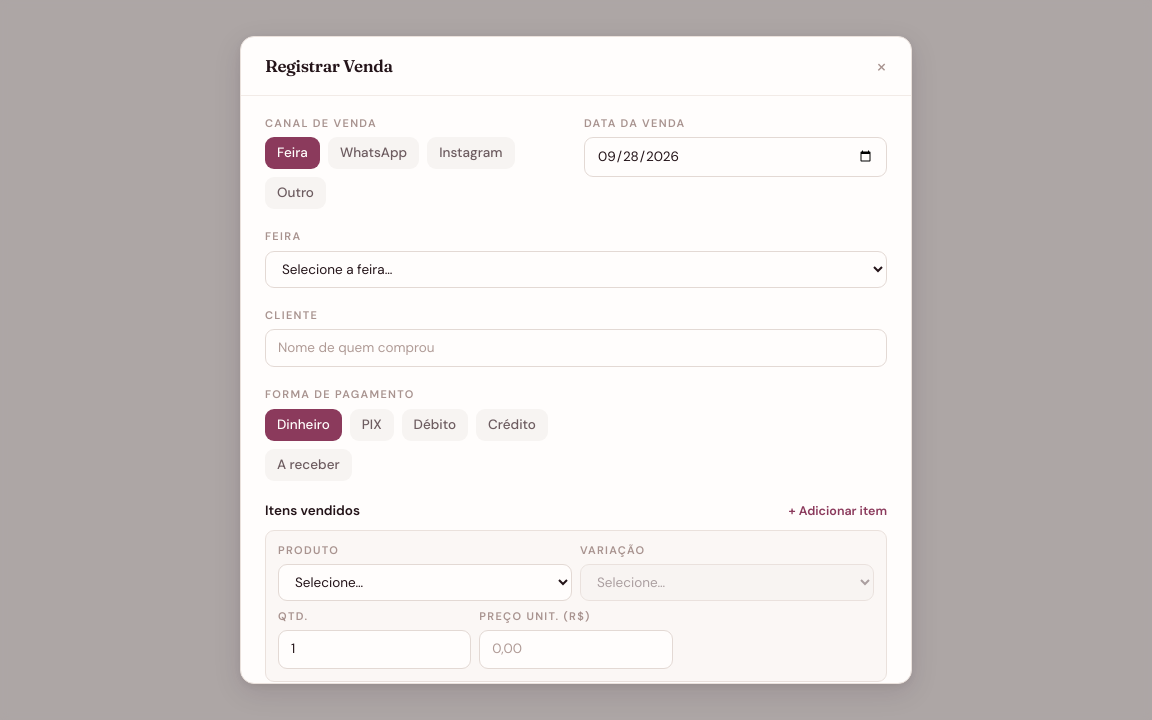
Test: SaleForm: conferências antes de salvar › should_require_the_fair_when_the_channel_is_a_fair
Select "Colar Aurora" in the dropdown labelled "Produto": (425, 582) [278, 564, 572, 601]
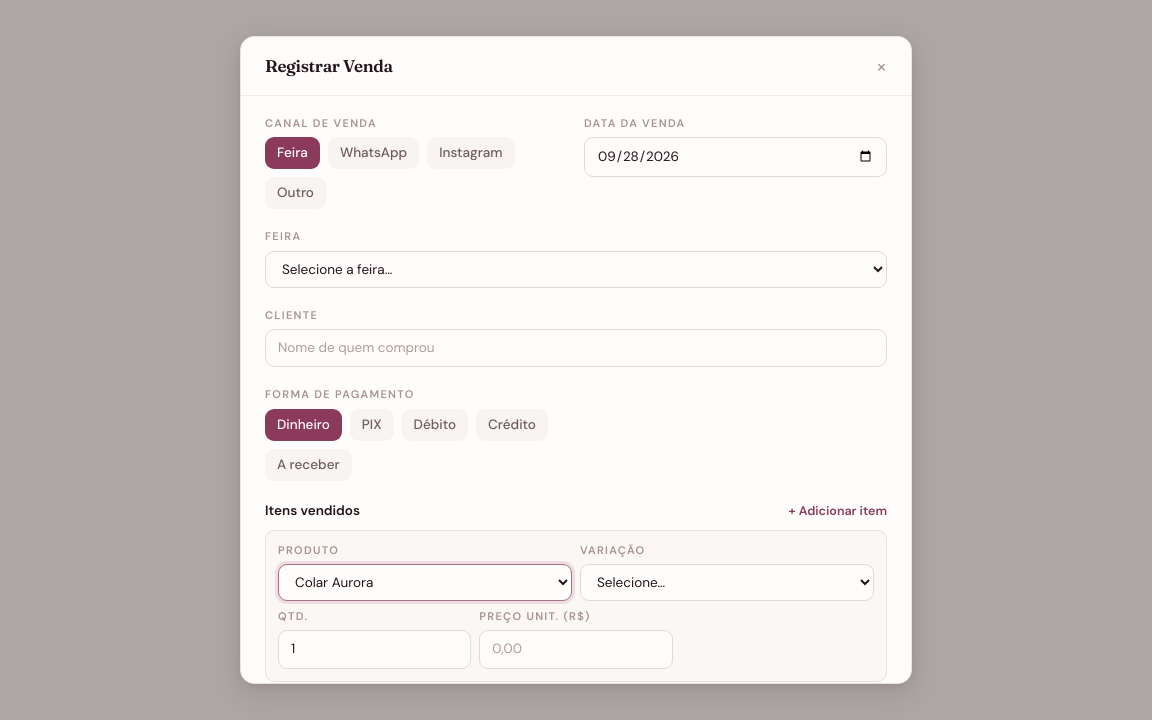
Select "Rosa (estoque: 4)" in the dropdown labelled "Variação": (727, 582) [580, 564, 874, 601]
(page scrolled)
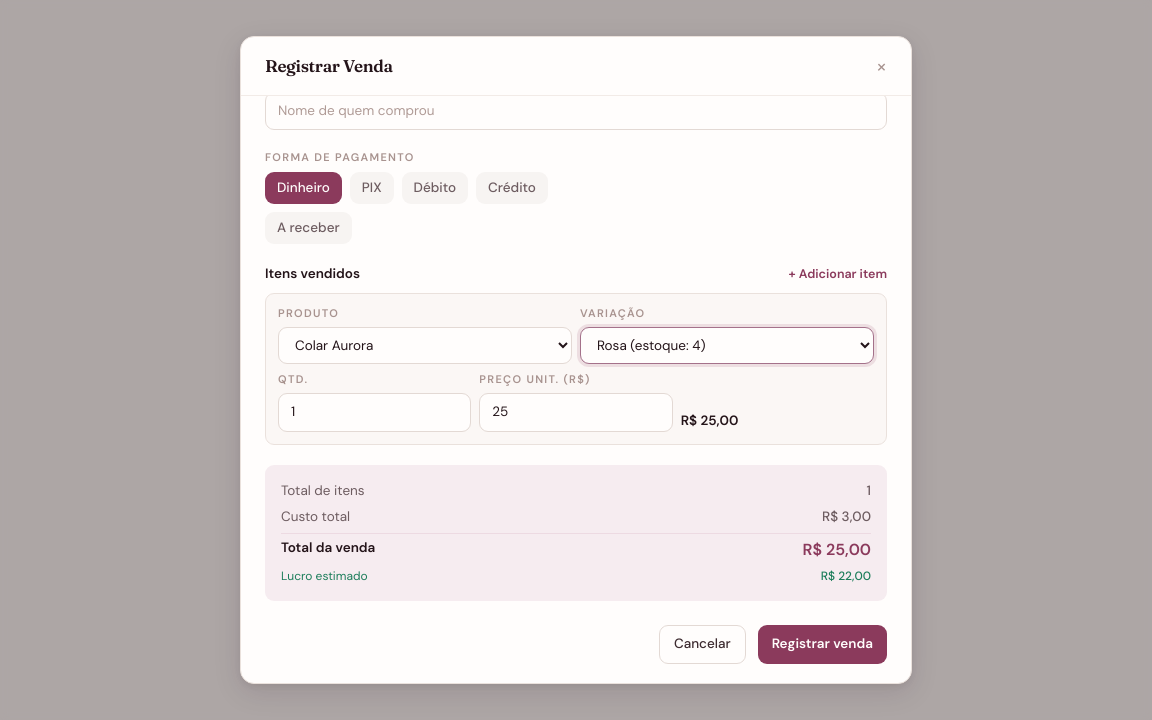
Click the button "Registrar venda": click(822, 645) [758, 626, 887, 664]
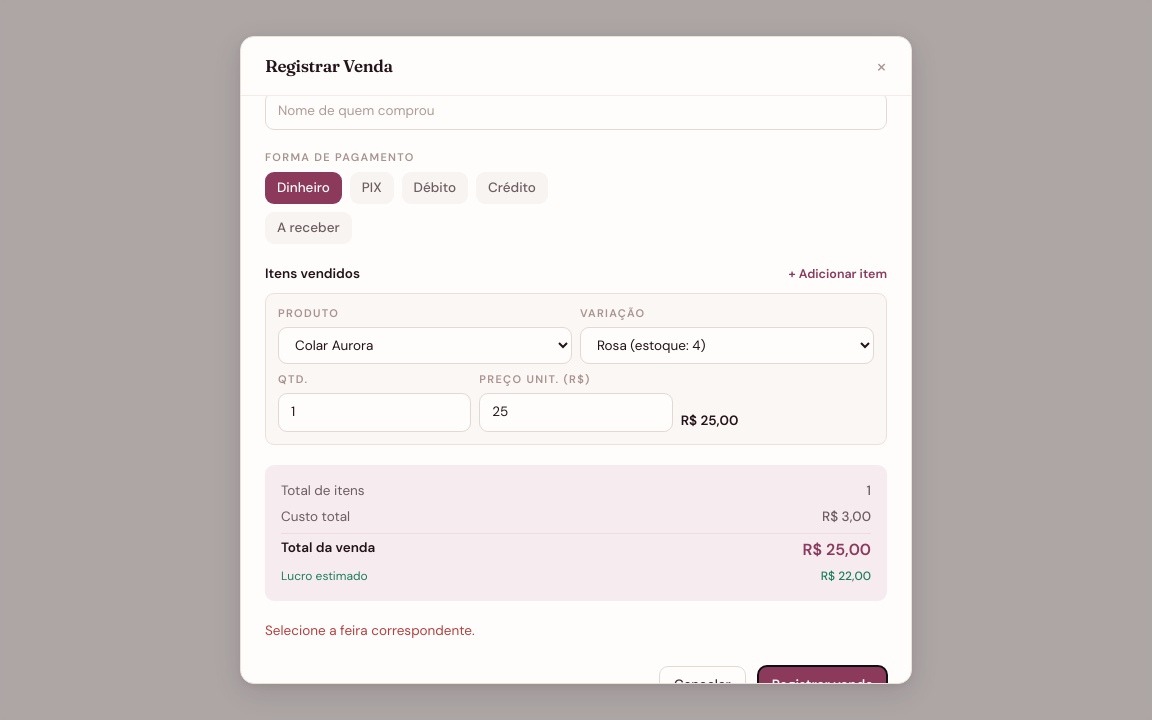
Expected: the text "Selecione a feira correspondente." is shown, [265, 622, 475, 640]
